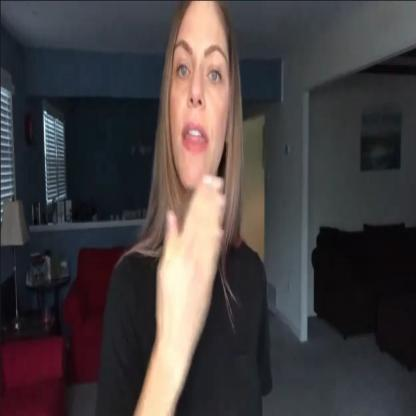ThankYou: (144, 0, 252, 355)
